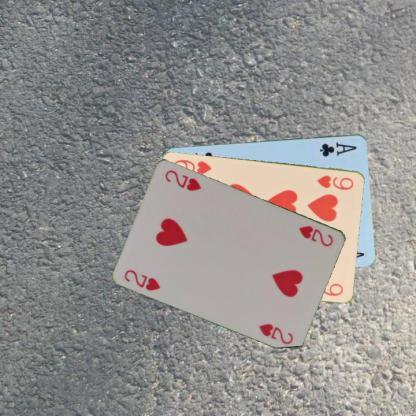2h: (296, 222, 336, 248), (122, 266, 162, 292)
9h: (314, 172, 355, 192)
Ac: (317, 139, 358, 158)
